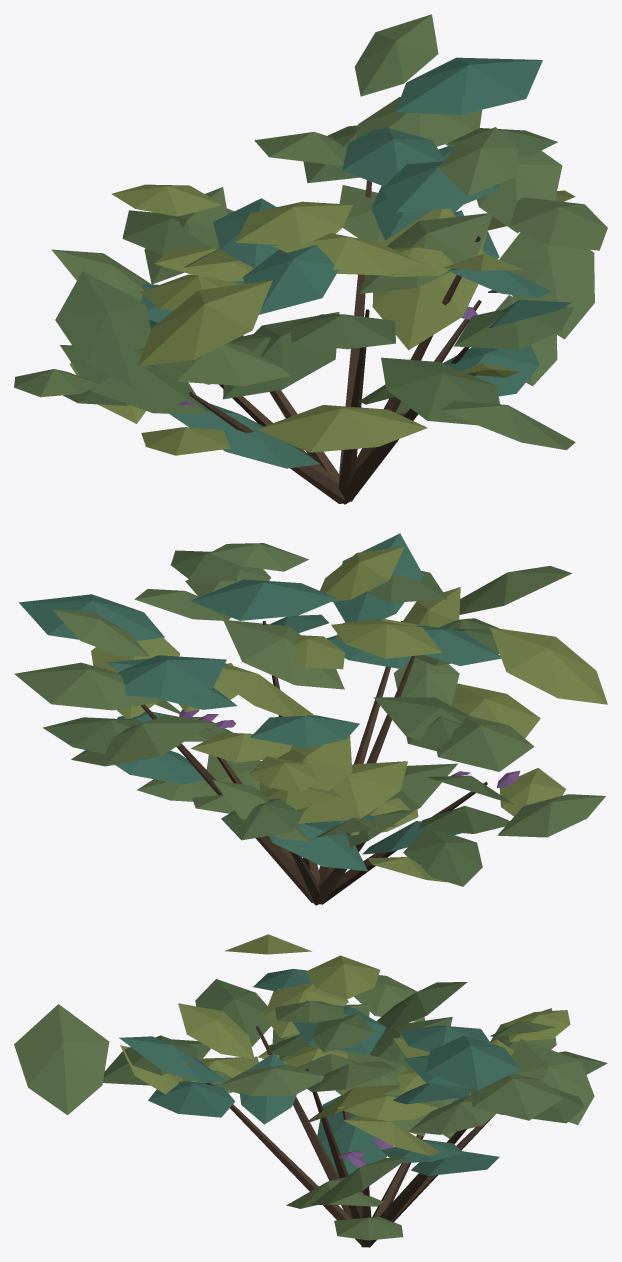
Rendered from border_shrub_b.glb.
3 views of the same model, one above another, from view 1: azimuth 30°, elevation 25°; view 2: azimuth 150°, elevation 25°; view 3: azimuth 270°, elevation 25° (orthographic). The views are drawn at different scales.
Parts seen in each view (by area): view 1: border_shrub_b; view 2: border_shrub_b; view 3: border_shrub_b.
Boxes of the visible parts, x1=… form: border_shrub_b: x1=14, y1=14, x2=607, y2=504; border_shrub_b: x1=14, y1=533, x2=607, y2=905; border_shrub_b: x1=14, y1=934, x2=607, y2=1247.
Bounding box in the file's own units: 1.35 × 0.8001 × 1.48.
